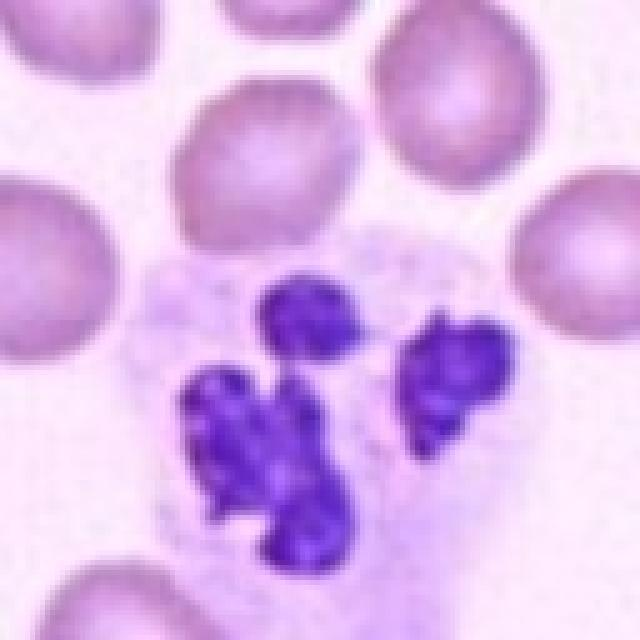neutro: (107, 130, 537, 504)
